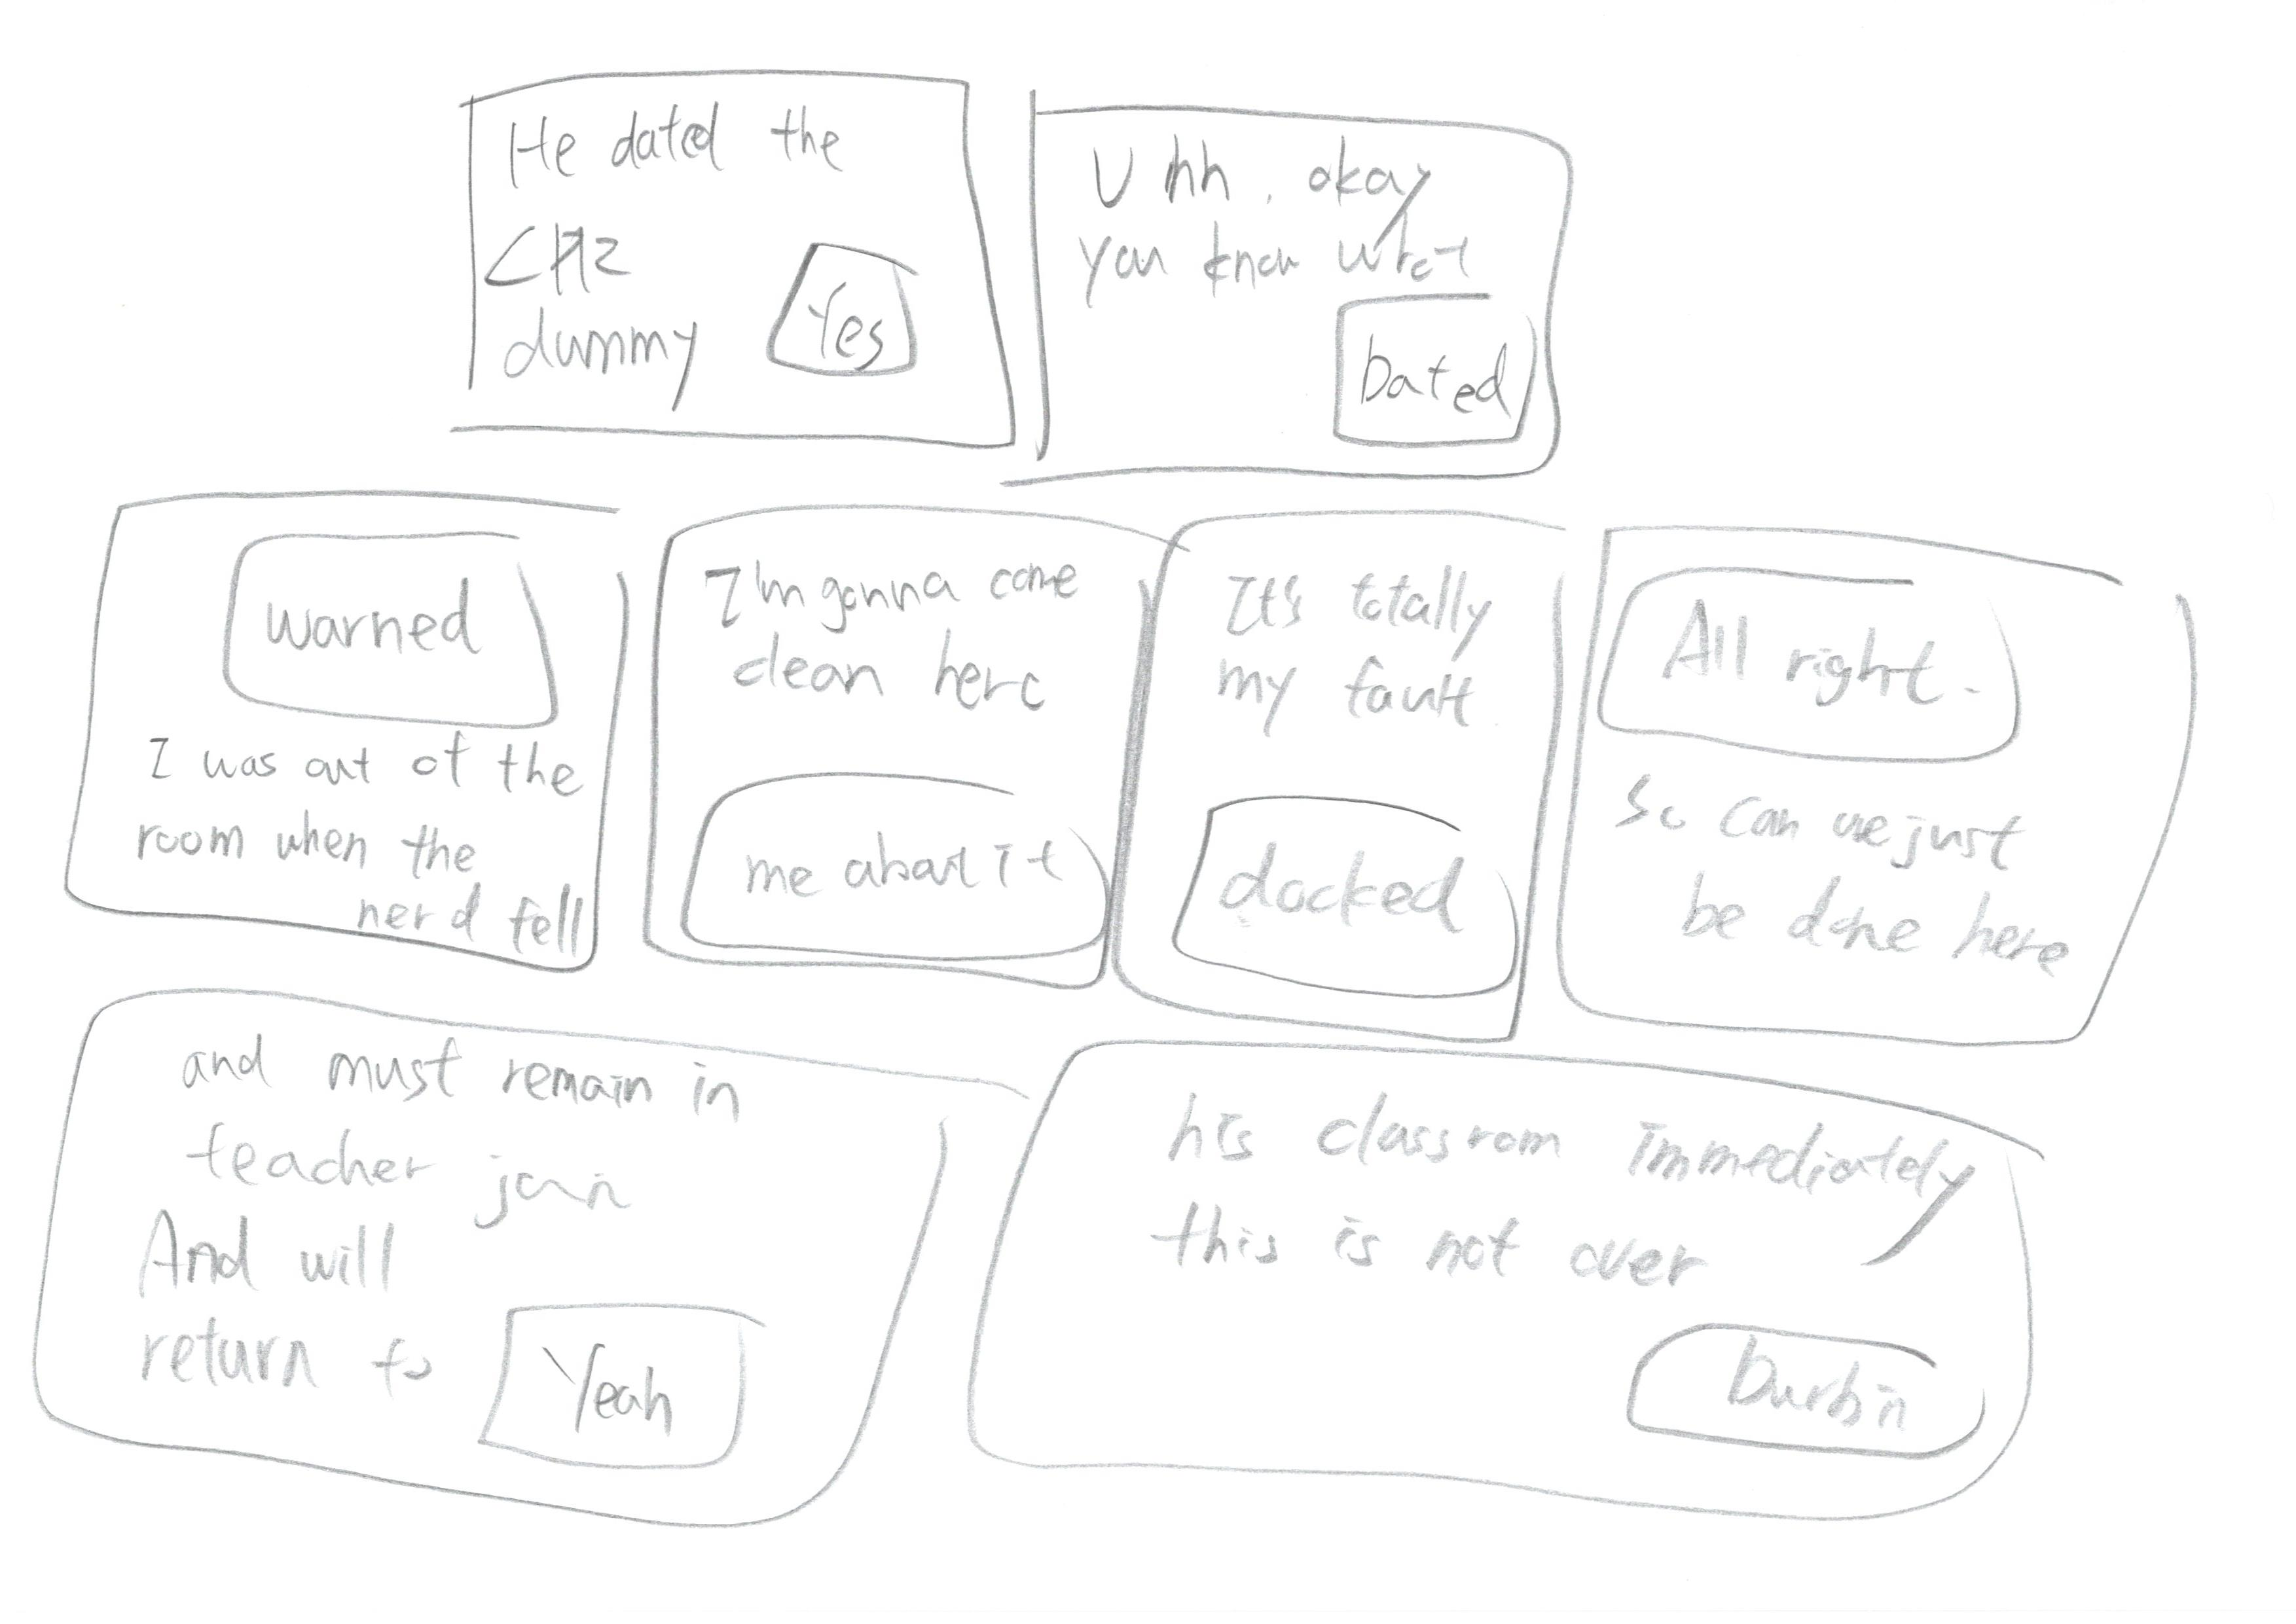btn-active: (659, 747, 1111, 986), (1582, 550, 2069, 772), (1159, 787, 1549, 1016), (190, 522, 582, 747), (1565, 1299, 2032, 1482), (447, 1288, 810, 1489), (1296, 271, 1545, 462), (738, 225, 956, 415)
double: (932, 1005, 2134, 1585), (14, 965, 1009, 1555), (965, 53, 1614, 510), (408, 40, 1057, 496)
quadruple: (1507, 508, 2229, 1088), (1064, 503, 1677, 1042), (40, 475, 654, 1012), (554, 487, 1167, 1025)
row: (0, 982, 2287, 1624), (14, 453, 2289, 1053), (56, 0, 2208, 506)
text: (1134, 1076, 1983, 1313), (102, 692, 591, 954), (123, 1037, 427, 1415), (1610, 777, 2097, 1002), (684, 545, 1104, 728), (1041, 135, 1503, 294), (1183, 536, 1522, 742), (415, 1058, 789, 1244), (489, 118, 719, 397)
